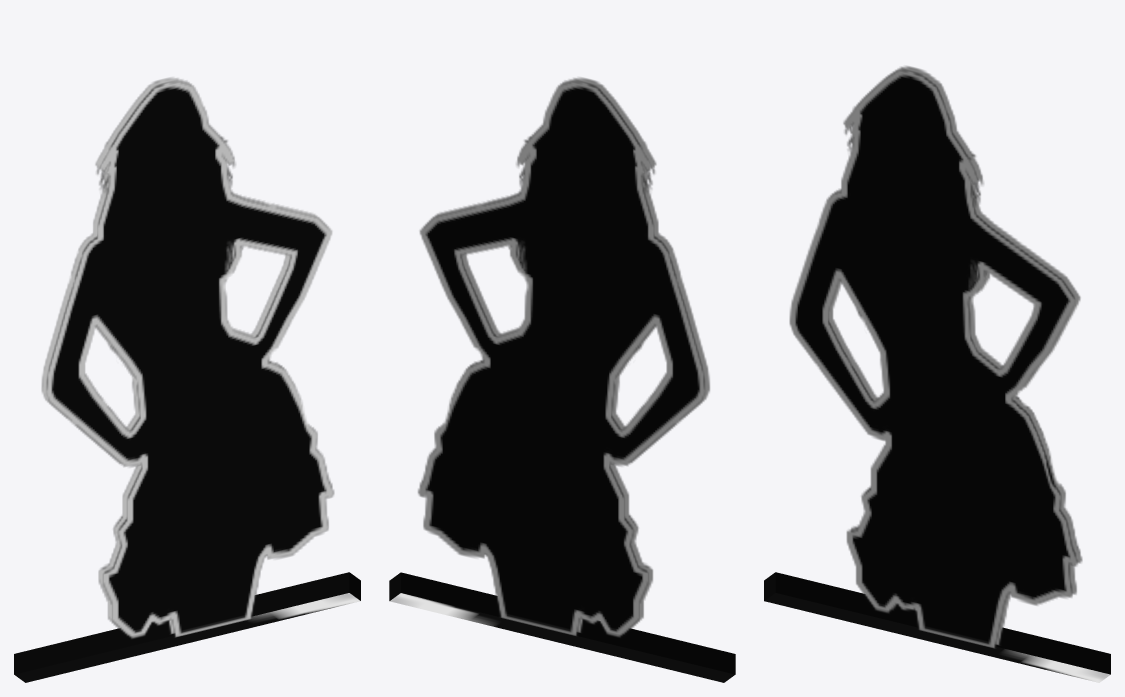
File: target2.glb
3 views of the same model, side by side, from view 1: azimuth 30°, elevation 25°; view 2: azimuth 150°, elevation 25°; view 3: azimuth 330°, elevation 25° (orthographic).
Parts seen in each view (by area): view 1: target2; view 2: target2; view 3: target2.
Boxes of the visible parts, <box> form: target2: <box>14,77,360,682</box>; target2: <box>389,77,735,682</box>; target2: <box>764,66,1110,682</box>.
Size of what is drawn, in the model's own units: 1.05 by 1.76 by 0.0622.
Materials: 1 (1 with a texture image).
